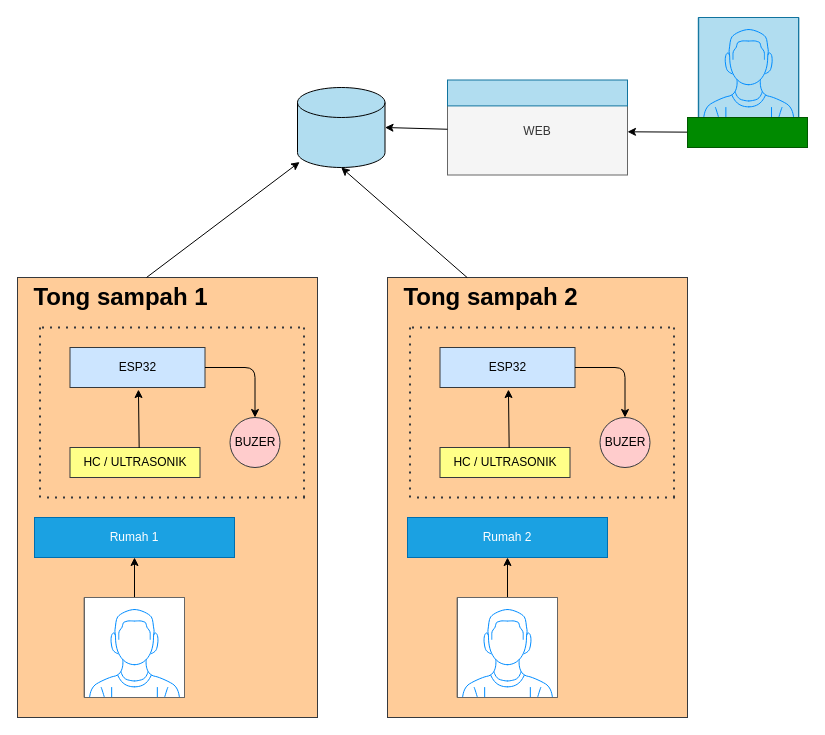
The diagram is 825 pixels wide and 735 high, and some of its shapes have lost their labels. Here are the shapes that lost their labels. From the top down, the box of each, then its label:
(446, 79, 628, 106): Dahboard monitoring
(296, 86, 385, 168): MQTT
(686, 116, 808, 148): Oprator sampah
